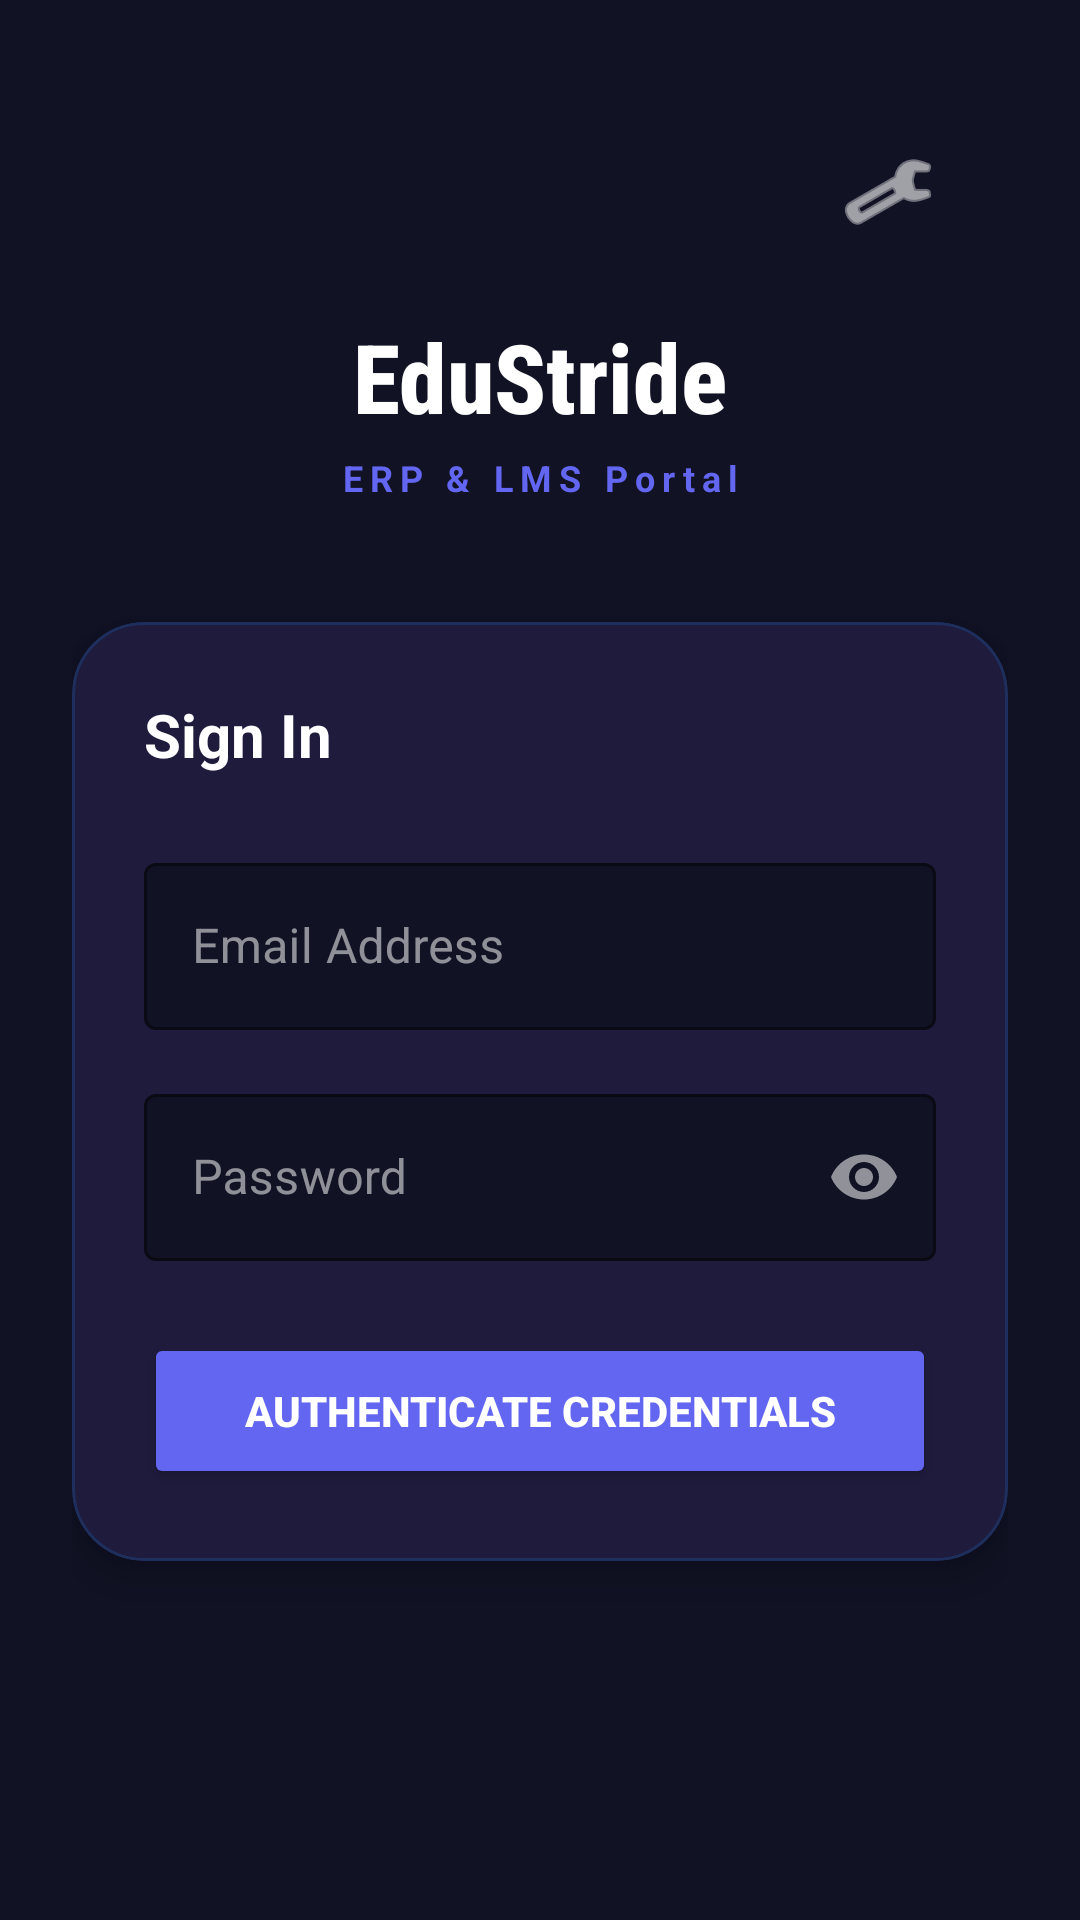

Icons on this 1080w x 1920h Android screen, each with its box as bbox=(x1, y1, x2, y2):
preferences: bbox=(845, 159, 931, 225)
